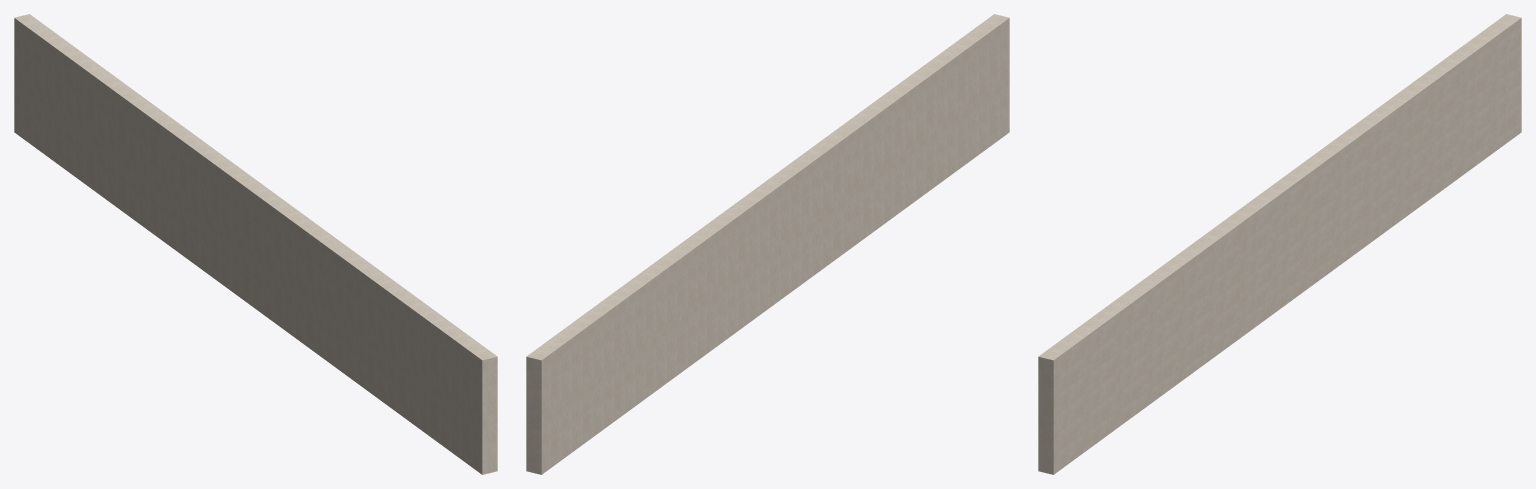
Rendered from wall_left.fbx.
3 renders of one model, left to right at view 1: azimuth 30°, elevation 25°; view 2: azimuth 150°, elevation 25°; view 3: azimuth 330°, elevation 25°, orthographic.
Visible parts, largest first — view 1: wall_left; view 2: wall_left; view 3: wall_left.
Boxes of the visible parts, box(x1,y1,x2,y2) form: wall_left: box(14, 14, 497, 474); wall_left: box(526, 14, 1009, 474); wall_left: box(1038, 14, 1521, 474).
Size of the model in its own units: 26.69 by 190 by 1408.
1 material, 1 textured.
